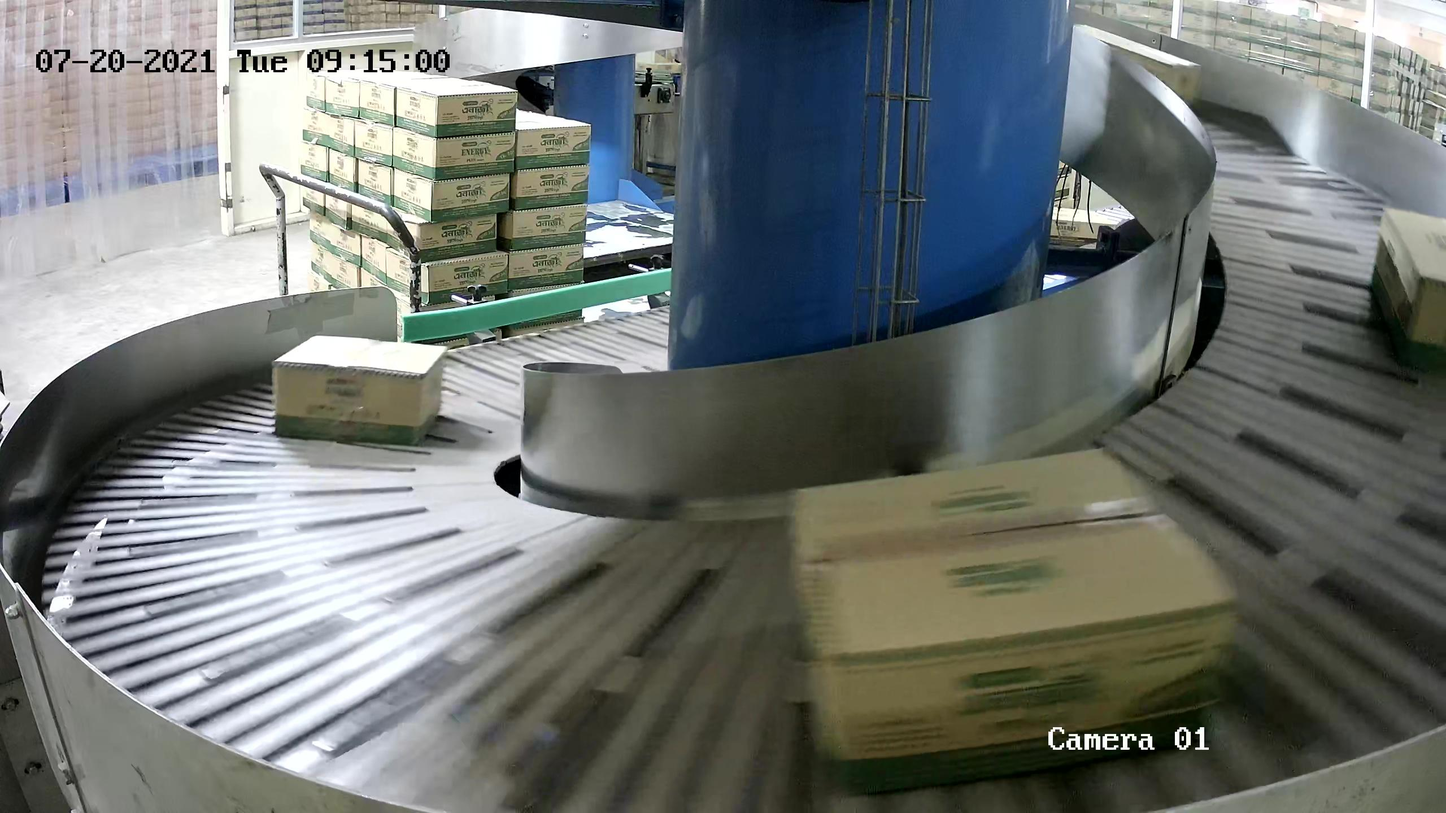Box: (784, 443, 1241, 793), (271, 332, 449, 446), (1369, 204, 1446, 377)
